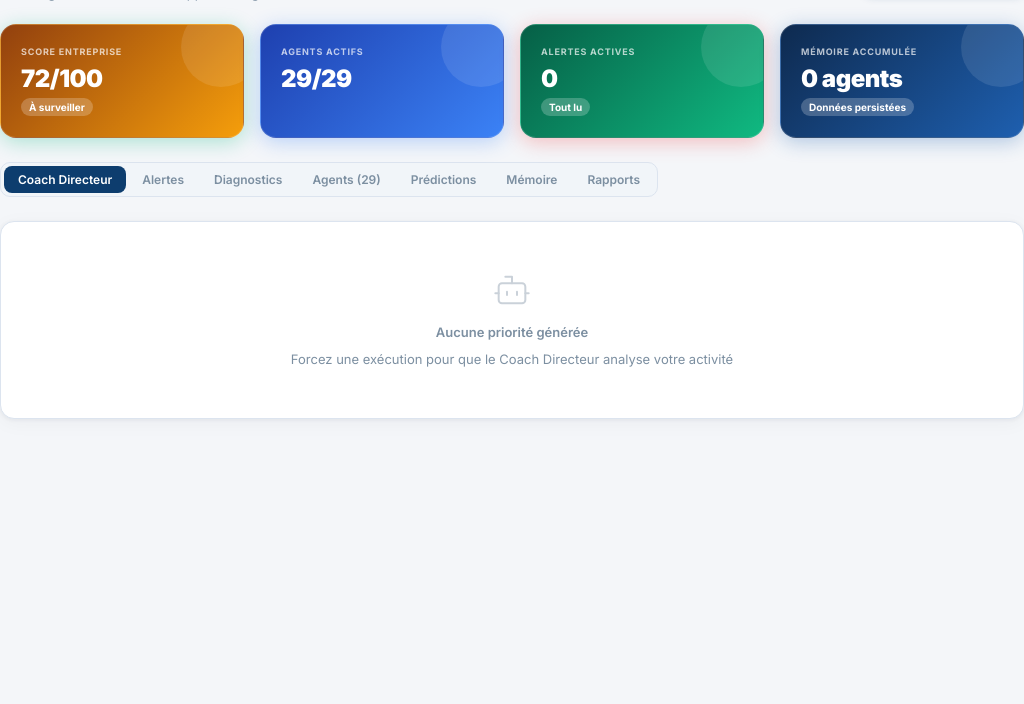
Test: SOUS-ONGLET RAPPORTS — briefing lundi matin › « Lancer l'analyse » affiche le score de vigilance et une action prioritaire
Click the button "Rapports" at (614, 180), box x1=573 y1=166 x2=654 y2=193
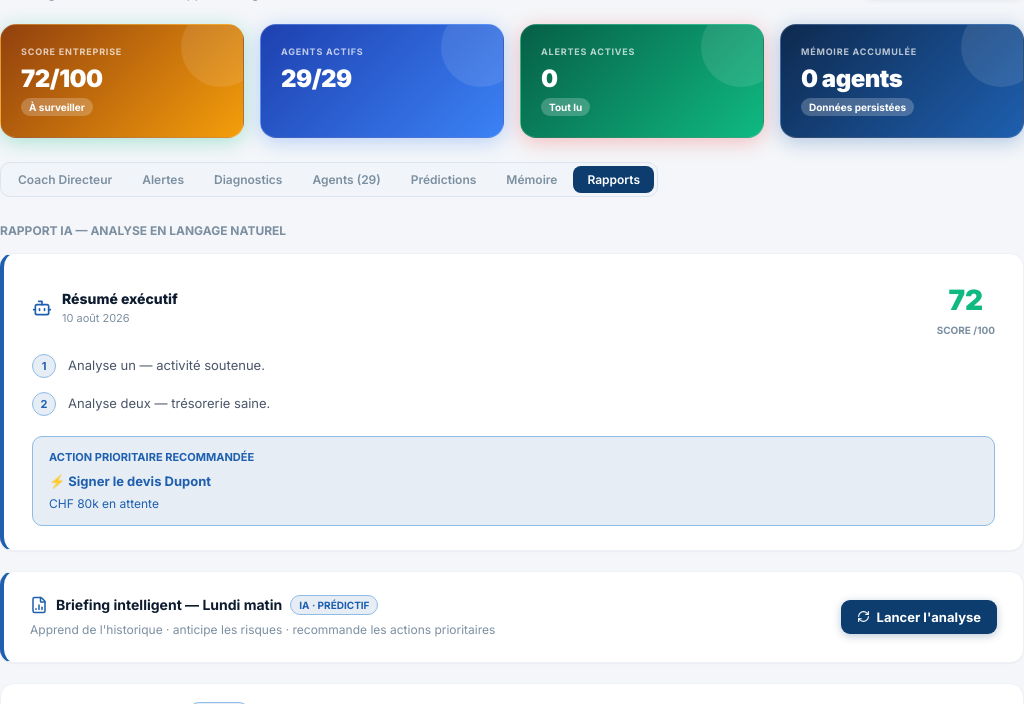
Now the text "Briefing intelligent — Lundi matin" is shown, box x1=56 y1=594 x2=282 y2=616
Click the button "Lancer l'analyse" at (919, 617), box x1=841 y1=600 x2=997 y2=634
(page scrolled)
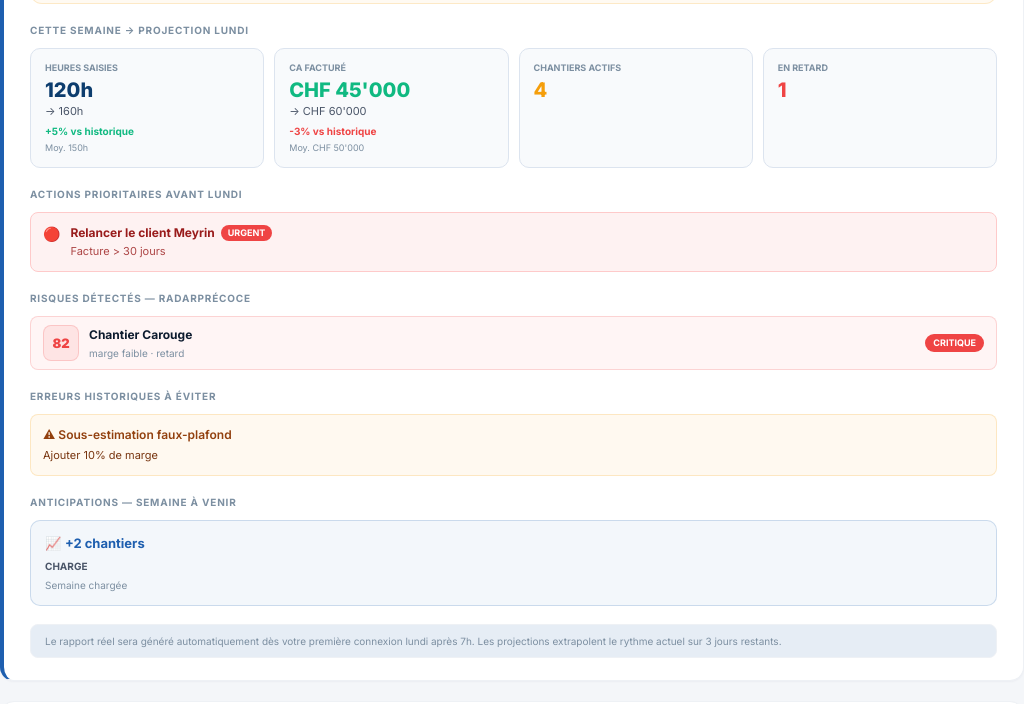
Now the text "Relancer le client Meyrin" is shown, box x1=70 y1=223 x2=215 y2=242
Now the text "Chantier Carouge" is shown, box x1=89 y1=327 x2=192 y2=342
